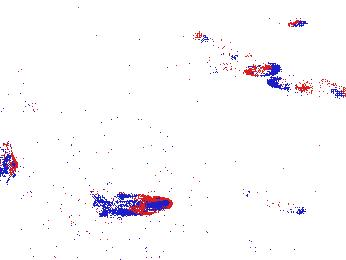red belly glassfish: (86, 193, 174, 217), (213, 57, 281, 78), (278, 16, 309, 30)
redtail glassfish: (234, 184, 308, 216), (266, 73, 345, 100), (191, 25, 241, 60)
